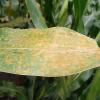Corn rust leaf: (0, 27, 99, 78)
